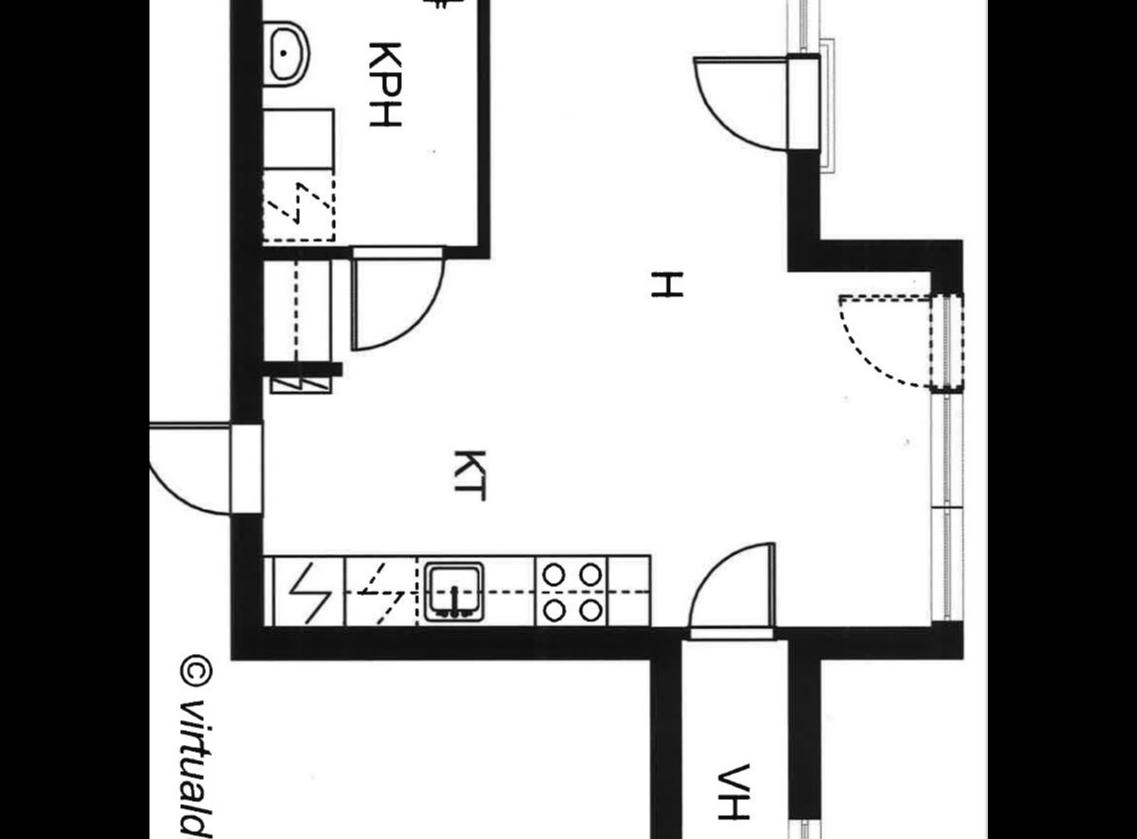bathroom: (261, 0, 477, 248)
door: (834, 288, 972, 398), (689, 46, 827, 155), (340, 238, 446, 358), (157, 415, 273, 521), (686, 538, 782, 644)
perimeter: (225, 0, 966, 839)
window: (922, 504, 978, 624), (920, 386, 972, 510), (779, 0, 826, 62), (779, 809, 828, 839)
